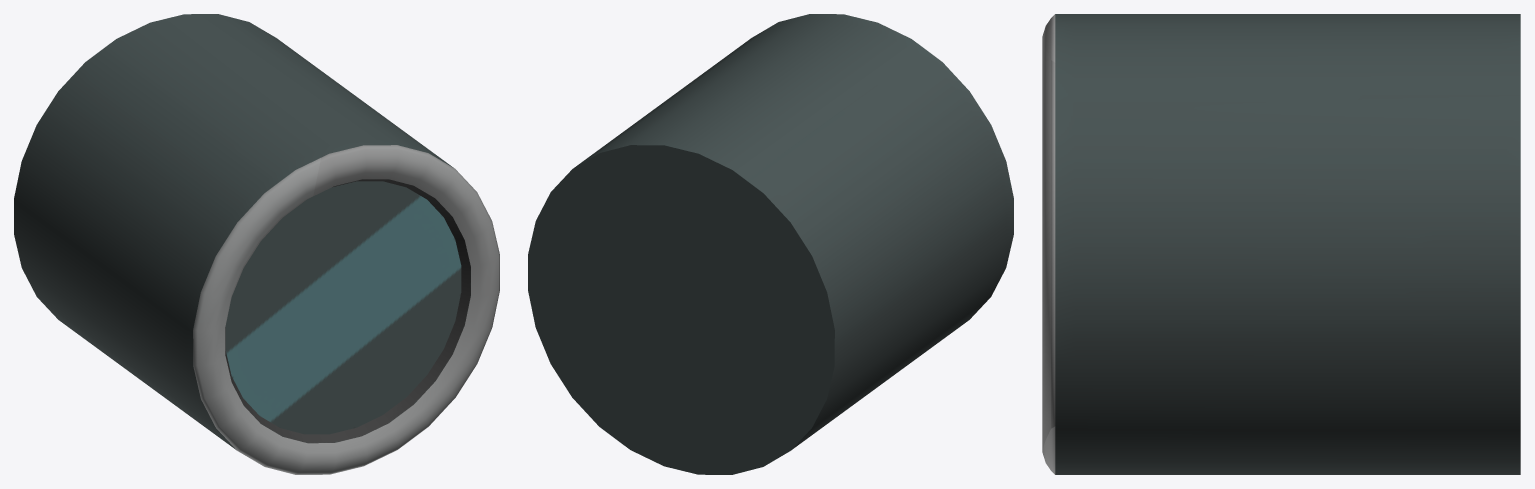
Rendered from 61_ELM_CircleGlass.fbx.
3 views of the same model, side by side, from view 1: azimuth 30°, elevation 25°; view 2: azimuth 150°, elevation 25°; view 3: azimuth 270°, elevation 25° (orthographic). The views are drawn at different scales.
Visible parts, largest first — view 1: CircleGlass, RimCircleGlass; view 2: CircleGlass; view 3: CircleGlass, RimCircleGlass.
Boxes of the visible parts, x1,y1,x2,y2 form: CircleGlass: (14,14,499,474); RimCircleGlass: (193,145,499,474); CircleGlass: (528,14,1013,474); CircleGlass: (1051,14,1520,474); RimCircleGlass: (1042,14,1055,474).
Size of the model in its own units: 1.08 by 1.08 by 1.13.
